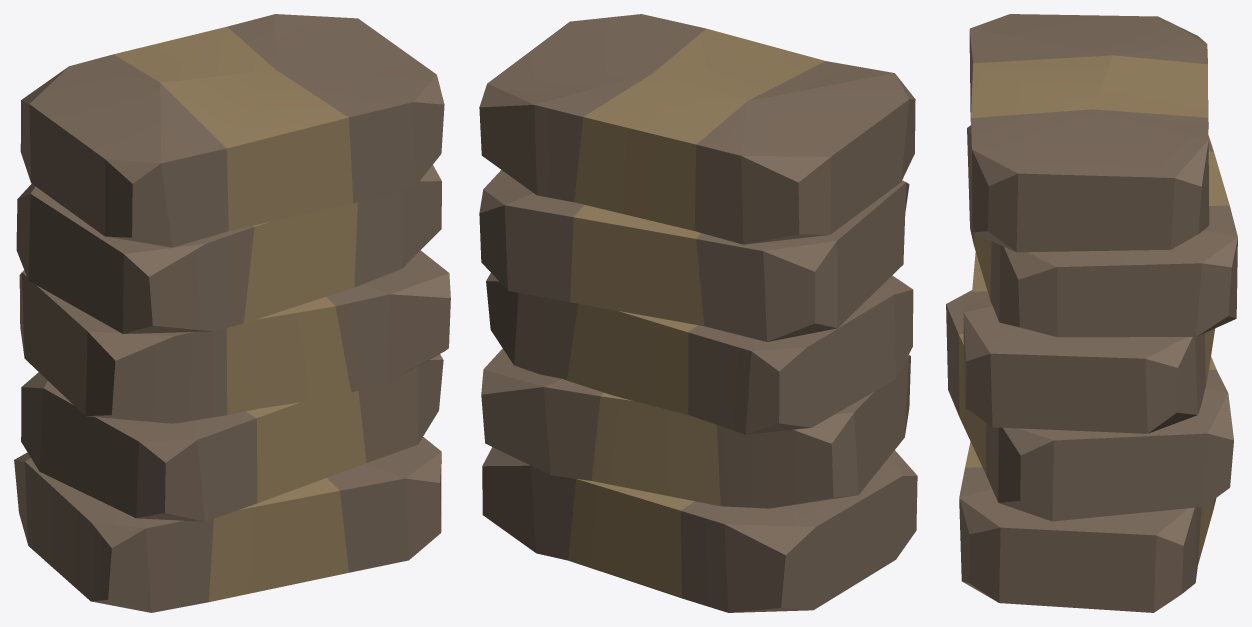
File: SM_Prop_Packet_Stack_03.obj
The picture shows the model from 3 angles, left to right: view 1: azimuth 30°, elevation 25°; view 2: azimuth 150°, elevation 25°; view 3: azimuth 270°, elevation 25°; orthographic projection. The views are drawn at different scales.
Parts seen in each view (by area): view 1: SM_Prop_Packet_Stack_03_0; view 2: SM_Prop_Packet_Stack_03_0; view 3: SM_Prop_Packet_Stack_03_0.
Part boxes in pixels (bbox=[...]): SM_Prop_Packet_Stack_03_0: bbox=[14, 14, 450, 612]; SM_Prop_Packet_Stack_03_0: bbox=[479, 14, 917, 612]; SM_Prop_Packet_Stack_03_0: bbox=[946, 14, 1237, 612].
Bounding box in the file's own units: 0.5785 × 0.7279 × 0.426.
Materials: 1 (1 with a texture image).
